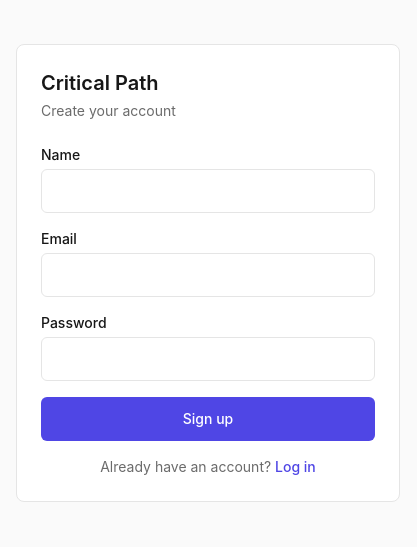
it: Signup › reports an unreachable server rather than failing silently
Type "Ada" into the field labelled "Name" at (208, 191), box [41, 169, 375, 213]
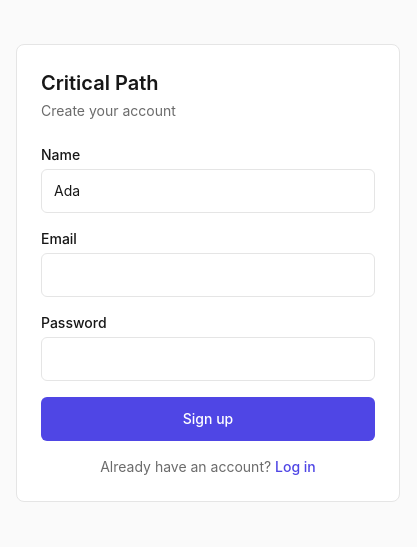
Type "ada@example.com" into the field labelled "Email" at (208, 275), box [41, 253, 375, 297]
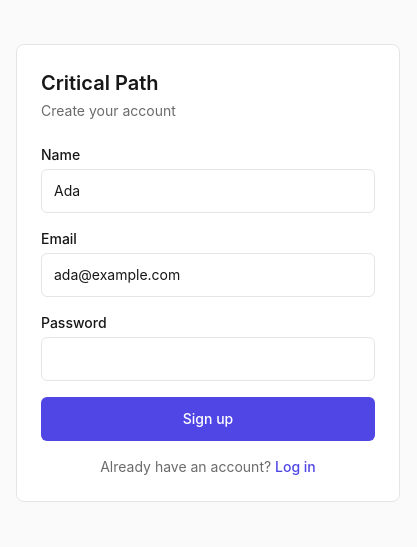
Type "password123" into the password field labelled "Password" at (208, 359), box [41, 337, 375, 381]
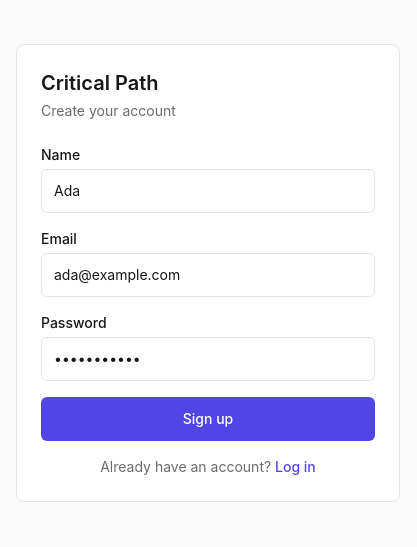
Click the button "Sign up" at (208, 419), box [41, 397, 375, 441]
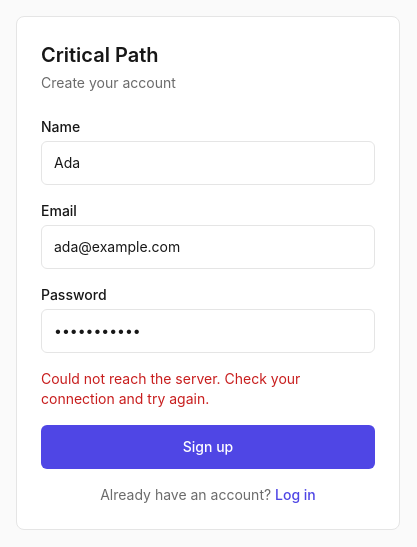
Check: the message reads "Could not reach the server. Check your connection and try again.", box [41, 370, 300, 407]
